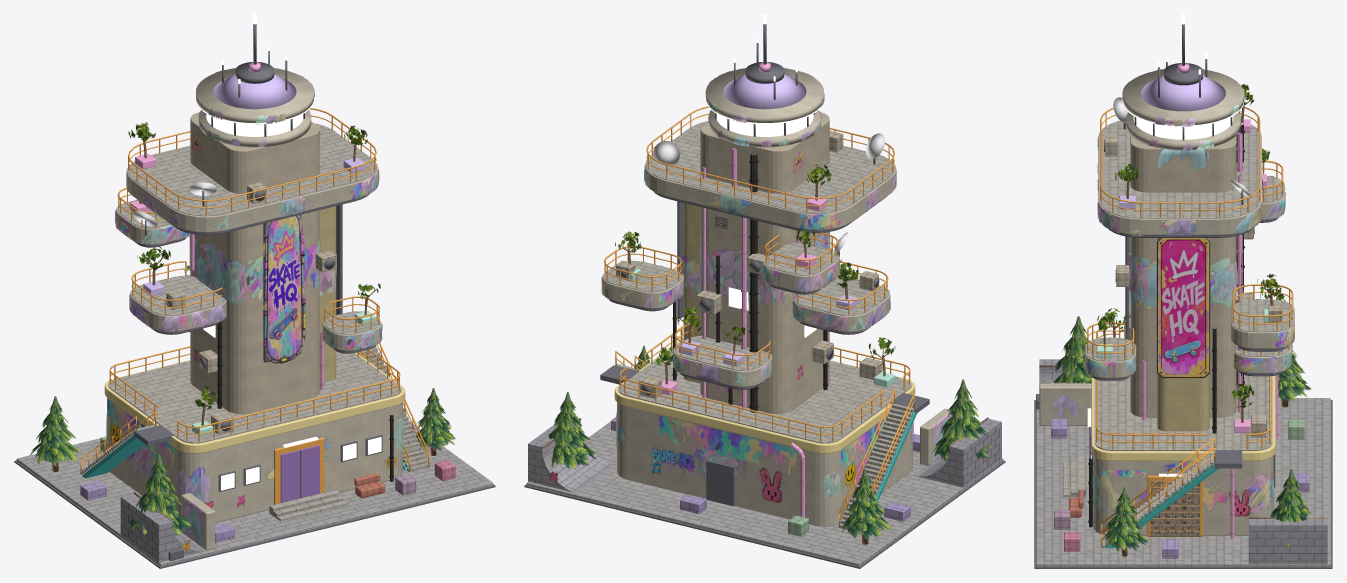
Rendered from SkateHQ.glb.
3 views of the same model, side by side, from view 1: azimuth 30°, elevation 25°; view 2: azimuth 150°, elevation 25°; view 3: azimuth 270°, elevation 25° (orthographic). The views are drawn at different scales.
Parts seen in each view (by area): view 1: HQ_QPBlock, HQ_Base, HQ_BaseEdge, HQ_Camo_Core, HQ_Sign_Front, HQ_PineNeedles, HQ_AC0, HQ_Paint_Core, HQ_Win0, HQ_Trees, HQ_Pine0_T0, HQ_Sign_Right (+2 smaller); view 2: HQ_Base, HQ_QPBlock, HQ_BaseEdge, HQ_Camo_Core, HQ_PineNeedles, HQ_Sign_Right, HQ_Paint_Core, HQ_AC0, HQ_Trees, HQ_PipesMesh, HQ_Win0, HQ_Knob (+2 smaller); view 3: HQ_Base, HQ_QPBlock, HQ_BaseEdge, HQ_Sign_Right, HQ_Camo_Core, HQ_PineNeedles, HQ_AC0, HQ_Paint_Core, HQ_GarageSlat0, HQ_Trees, HQ_PipesMesh, HQ_Win0 (+3 smaller).
Part boxes in pixels (<box>): HQ_QPBlock: <box>107,68,402,550</box>; HQ_Base: <box>16,123,493,566</box>; HQ_BaseEdge: <box>14,24,495,568</box>; HQ_Camo_Core: <box>106,70,403,547</box>; HQ_Sign_Front: <box>262,215,305,363</box>; HQ_PineNeedles: <box>29,394,455,535</box>; HQ_AC0: <box>100,182,455,498</box>; HQ_Paint_Core: <box>118,171,382,501</box>; HQ_Win0: <box>203,114,381,490</box>; HQ_Trees: <box>128,122,380,425</box>; HQ_Pine0_T0: <box>38,388,448,528</box>; HQ_Sign_Right: <box>107,133,201,469</box>; HQ_Base: <box>526,121,1003,566</box>; HQ_QPBlock: <box>602,68,952,526</box>; HQ_BaseEdge: <box>524,24,1005,568</box>; HQ_Camo_Core: <box>601,70,951,497</box>; HQ_PineNeedles: <box>548,351,992,538</box>; HQ_Sign_Right: <box>651,150,886,475</box>; HQ_Paint_Core: <box>601,188,913,496</box>; HQ_AC0: <box>616,130,882,536</box>; HQ_Trees: <box>615,164,895,384</box>; HQ_PipesMesh: <box>672,154,828,412</box>; HQ_Win0: <box>716,114,816,337</box>; HQ_Knob: <box>653,62,885,255</box>; HQ_Base: <box>1036,120,1330,566</box>; HQ_QPBlock: <box>1039,69,1294,535</box>; HQ_BaseEdge: <box>1034,24,1332,568</box>; HQ_Sign_Right: <box>1102,238,1210,477</box>; HQ_Camo_Core: <box>1046,69,1294,512</box>; HQ_PineNeedles: <box>1053,324,1312,551</box>; HQ_AC0: <box>1054,135,1304,551</box>; HQ_Paint_Core: <box>1087,161,1293,511</box>; HQ_GarageSlat0: <box>1039,314,1327,536</box>; HQ_Trees: <box>1097,84,1285,422</box>; HQ_PipesMesh: <box>1088,124,1244,527</box>; HQ_Win0: <box>1091,116,1237,458</box>.
Size of the model in its own units: 25.04 by 31.74 by 18.2.
Materials: 21 (16 with a texture image).
